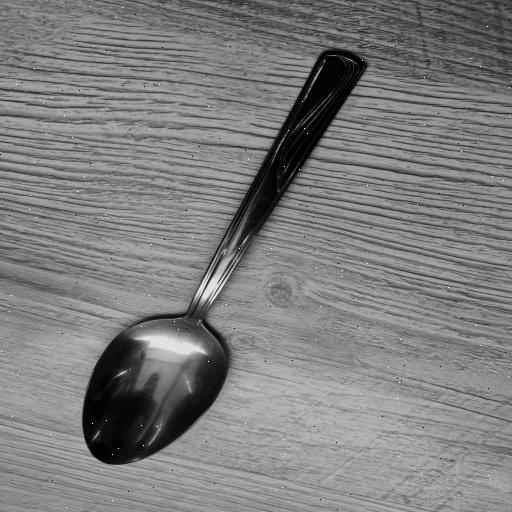spoon: (75, 49, 367, 464)
